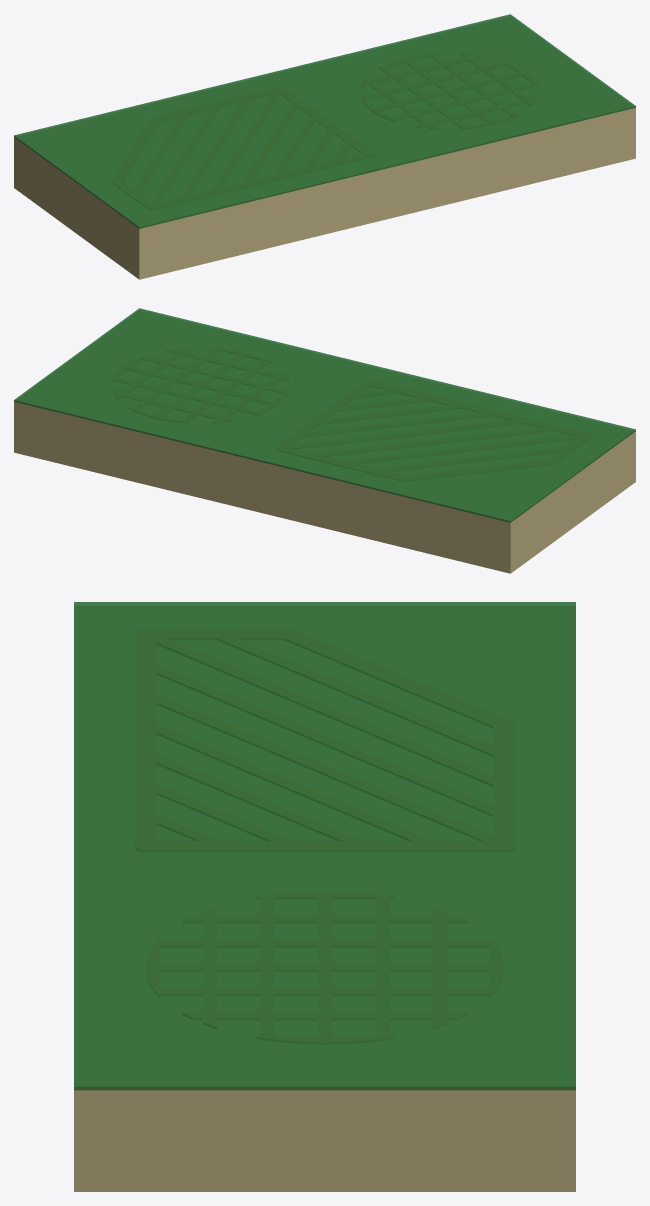
File: hatch-fill.glb
The picture shows the model from 3 angles, top to bottom: view 1: azimuth 30°, elevation 25°; view 2: azimuth 150°, elevation 25°; view 3: azimuth 270°, elevation 25°; orthographic projection. The views are drawn at different scales.
Parts seen in each view (by area): view 1: layer/@soldermask-top, layer/@core, layer/TOP; view 2: layer/@soldermask-top, layer/@core, layer/TOP; view 3: layer/@soldermask-top, layer/@core, layer/TOP.
Boxes of the visible parts, x1,y1,x2,y2 form: layer/@soldermask-top: (14, 14, 635, 228); layer/@core: (14, 18, 635, 279); layer/TOP: (115, 54, 522, 188); layer/@soldermask-top: (14, 308, 635, 522); layer/@core: (14, 312, 635, 573); layer/TOP: (116, 348, 553, 480); layer/@soldermask-top: (74, 602, 575, 1090); layer/@core: (74, 606, 575, 1191); layer/TOP: (136, 643, 514, 1042).
Bounding box in the file's own units: 0.016 × 0.00162 × 0.007.
